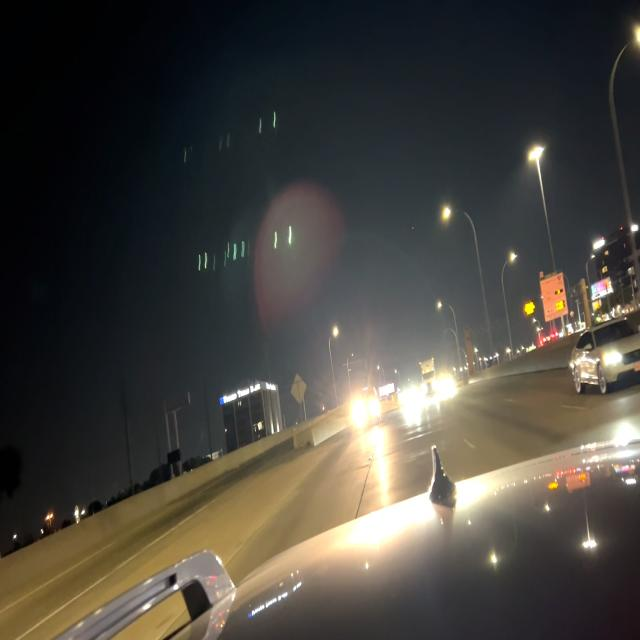back-of-sign: (290, 372, 308, 407)
